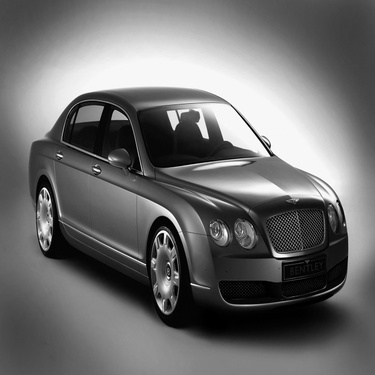car: (15, 79, 356, 335)
